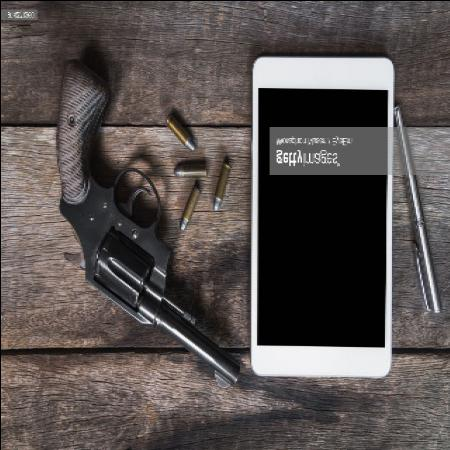Pistol: (51, 47, 240, 390)
